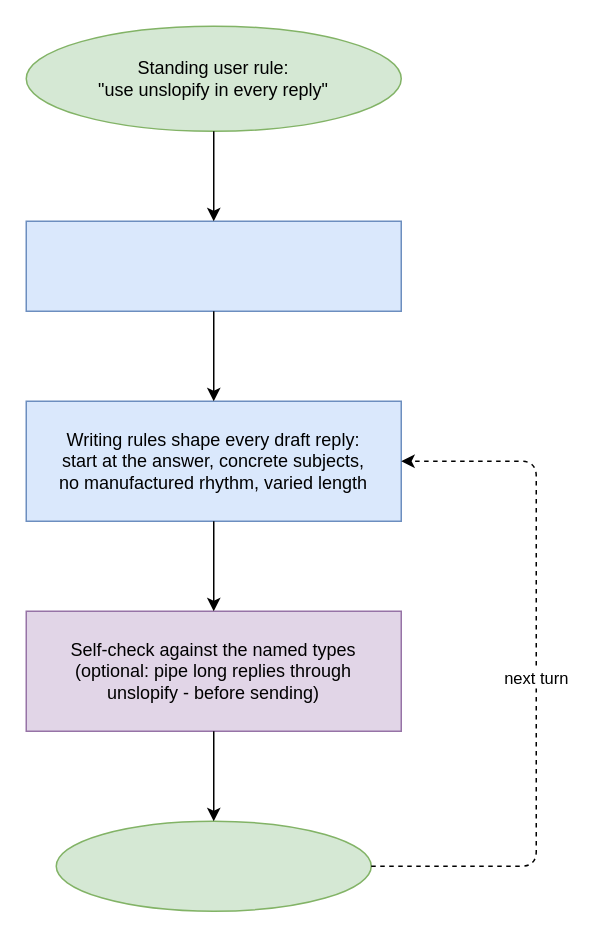
This 594x938 diagram has some shape labels left out. The shapes that lost their labels are listed below. From the top down, each one's centre as x and y in pixels, then its label:
At pixel 213 265: "Harness loads SKILL.md (Mode 1)".
At pixel 213 865: "Every outgoing message".
